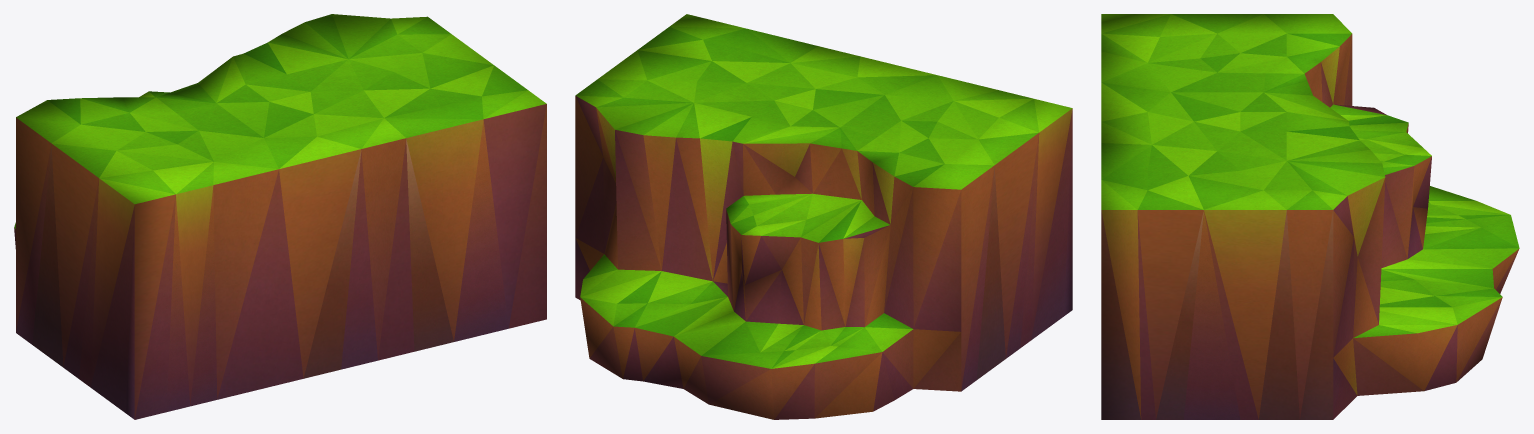
Rendered from Terrain-part-12.fbx.
3 views of the same model, side by side, from view 1: azimuth 30°, elevation 25°; view 2: azimuth 150°, elevation 25°; view 3: azimuth 270°, elevation 25° (orthographic). The views are drawn at different scales.
Parts seen in each view (by area): view 1: Terrain-part-12; view 2: Terrain-part-12; view 3: Terrain-part-12.
Boxes of the visible parts, x1,y1,x2,y2 form: Terrain-part-12: (14, 14, 546, 419); Terrain-part-12: (575, 14, 1072, 419); Terrain-part-12: (1101, 14, 1519, 419).
Bounding box in the file's own units: 6 × 3 × 5.41.
